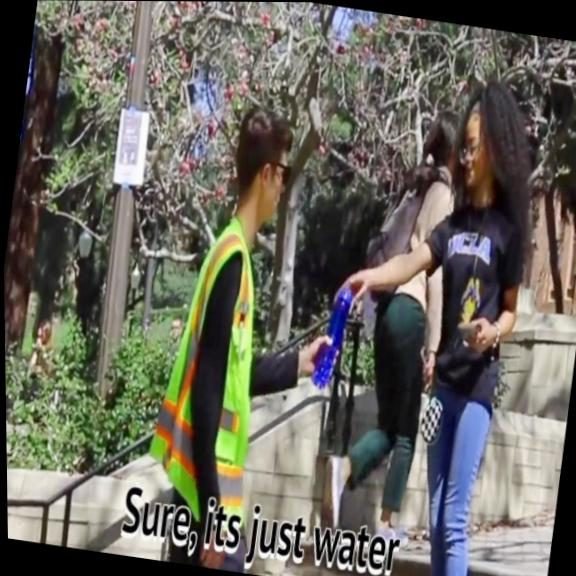safety_vest: (138, 204, 285, 533)
